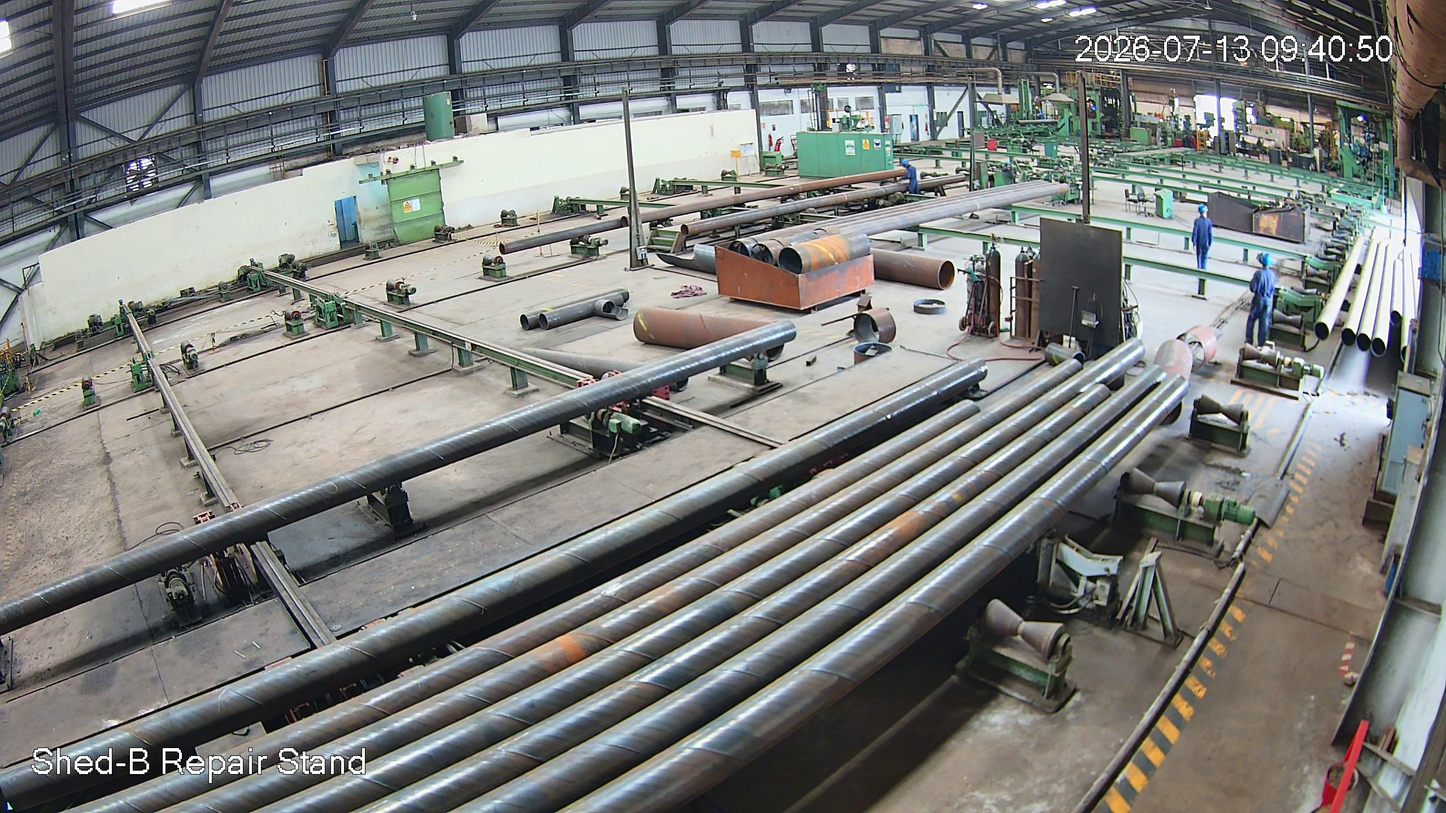Helmet: (1258, 249, 1278, 275), (1197, 201, 1211, 221)
Person: (1245, 252, 1280, 357), (1190, 203, 1217, 278)
